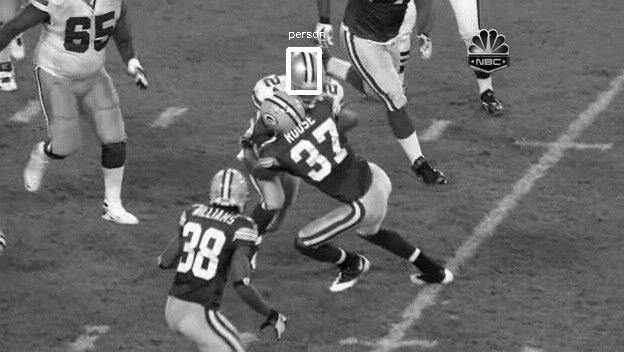person: (287, 51, 326, 101), (286, 51, 325, 101), (288, 51, 327, 101), (287, 50, 326, 100), (287, 52, 326, 102)
target_negative: (131, 227, 557, 293), (236, 233, 363, 298), (1, 57, 187, 84), (526, 174, 555, 252), (575, 184, 606, 246), (495, 302, 534, 322)
